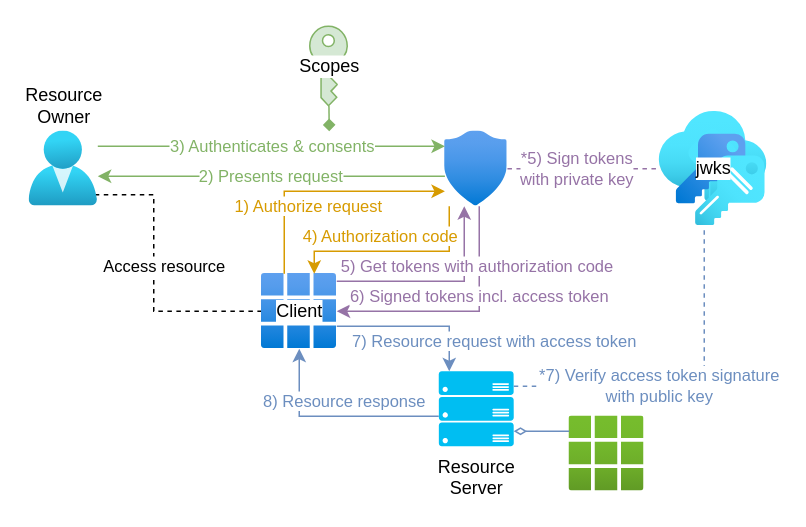
Some shapes in this 806 by 527 pixel diagram are drawn without their labels. The shapes that lost their labels are listed below. From the top down, each one's centre as x and y in pixels, then its label:
At (475,168): "Authorization Server".
At (606,453): "Resources".
